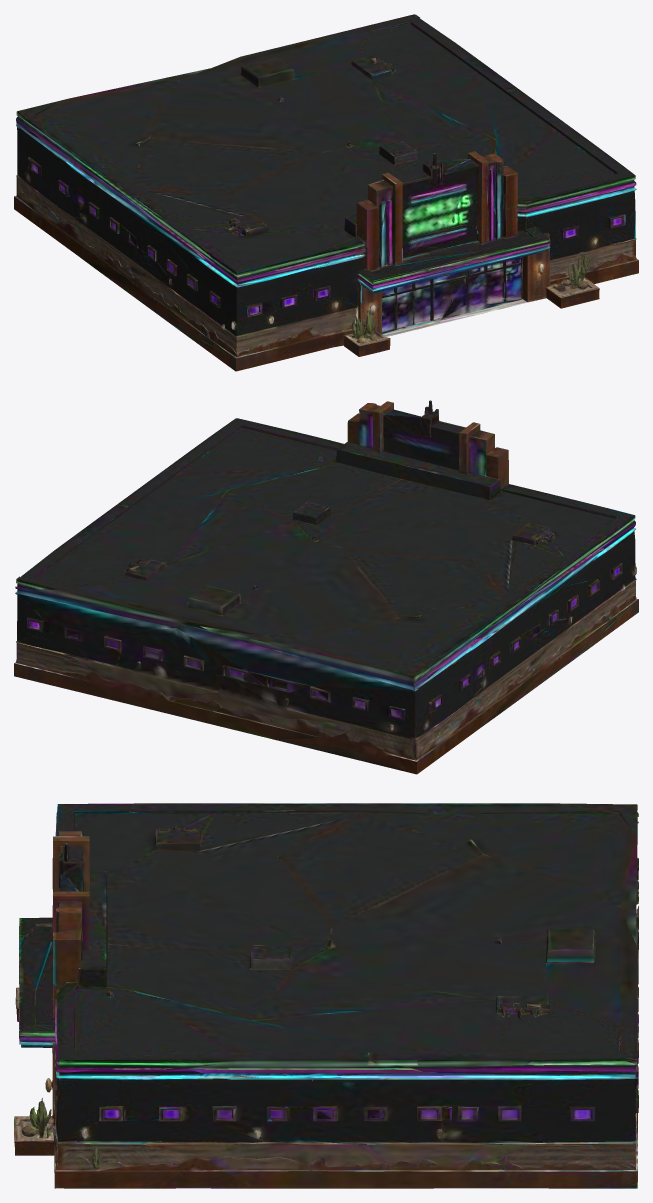
The model's file is arcade.glb.
3 renders of one model, top to bottom at view 1: azimuth 30°, elevation 25°; view 2: azimuth 150°, elevation 25°; view 3: azimuth 270°, elevation 25°, orthographic. The views are drawn at different scales.
Parts seen in each view (by area): view 1: Mesh_0; view 2: Mesh_0; view 3: Mesh_0.
Part boxes in pixels (x1=…): Mesh_0: x1=14, y1=14, x2=638, y2=371; Mesh_0: x1=14, y1=400, x2=638, y2=774; Mesh_0: x1=14, y1=803, x2=638, y2=1188.
Size of the model in its own units: 1.88 by 0.7442 by 1.9.
1 material, 1 textured.
